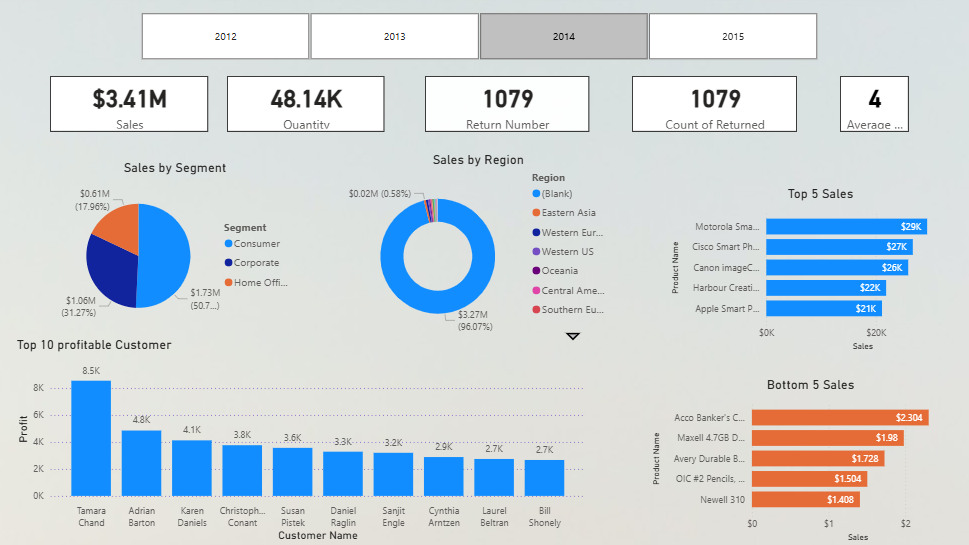

This screenshot's page, from the dashboard's own definition file:
{"tool":"powerbi","page":{"name":"Page 1","canvas":[1280,720],"ordinal":0},"visuals":[{"type":"card","fields":{"Values":["Sum(Orders.Sales)"]},"box":[70.5,105.8,207.2,73.5],"z":0},{"type":"card","fields":{"Values":["Sum(Orders.Quantity)"]},"box":[302.7,105.8,205.7,73.5],"z":1000},{"type":"card","fields":{"Values":["Avg(Orders.Delivery Day)"]},"box":[1105,105.8,89.6,73.5],"z":2000},{"type":"card","fields":{"Values":["Sum(Returns.Return Number)"]},"box":[561.3,105.8,214.5,73.5],"z":3000},{"type":"card","fields":{"Values":["CountNonNull(Returns.Returned)"]},"box":[833.1,105.8,216,73.5],"z":4000},{"type":"slicer","fields":{"Values":["Orders.Order Date.2"]},"box":[164.6,16.8,934,73.9],"z":5000},{"type":"clusteredBarChart","title":"Top 5 Sales","fields":{"Category":["Orders.Product Name"],"Y":["Sum(Orders.Sales)"]},"box":[878,250,402,220],"z":7000},{"type":"clusteredBarChart","title":"Bottom 5 Sales","fields":{"Y":["Sum(Orders.Sales)"],"Category":["Orders.Product Name"]},"box":[854,500,426,220],"z":8000},{"type":"pieChart","fields":{"Category":["Orders.Segment"],"Y":["Sum(Orders.Sales)"]},"box":[70,216,330,232],"z":9000},{"type":"donutChart","fields":{"Category":["People.Region"],"Y":["Sum(Orders.Sales)"]},"box":[450,206,362,254],"z":10000},{"type":"clusteredColumnChart","title":"Top 10 profitable Customer","fields":{"Category":["Orders.Customer Name"],"Y":["Sum(Orders.Profit)"]},"box":[22,448,754,272],"z":11000}]}

Visuals, with their boxes in screenshot pixels (x1, y1, x2, y2), scaled from the page's 1280x720 canvas onto the 969x545 screenshot:
card - Sum(Orders.Sales): [53,80,210,136]
card - Sum(Orders.Quantity): [229,80,385,136]
card - Avg(Orders.Delivery Day): [837,80,904,136]
card - Sum(Returns.Return Number): [425,80,587,136]
card - CountNonNull(Returns.Returned): [631,80,794,136]
slicer - Orders.Order Date.2: [125,13,832,69]
"Top 5 Sales" clusteredBarChart: [665,189,968,356]
"Bottom 5 Sales" clusteredBarChart: [647,378,968,544]
pieChart - Orders.Segment x Sum(Orders.Sales): [53,164,303,339]
donutChart - People.Region x Sum(Orders.Sales): [341,156,615,348]
"Top 10 profitable Customer" clusteredColumnChart: [17,339,587,544]
